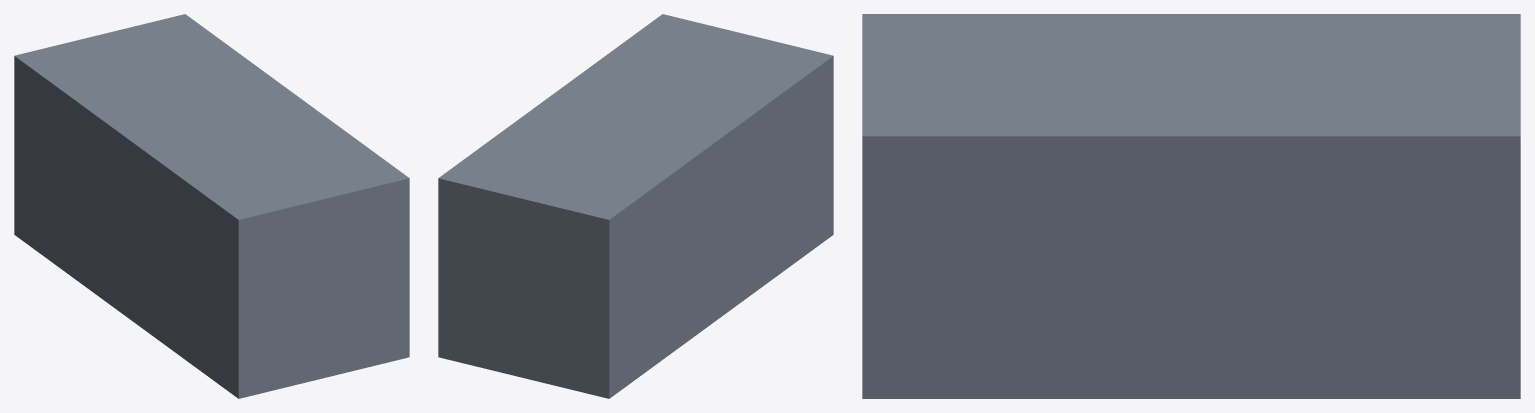
File: filing_cabinet.glb
3 views of the same model, side by side, from view 1: azimuth 30°, elevation 25°; view 2: azimuth 150°, elevation 25°; view 3: azimuth 270°, elevation 25° (orthographic). The views are drawn at different scales.
Parts seen in each view (by area): view 1: cabinet_0; view 2: cabinet_0; view 3: cabinet_0.
Part boxes in pixels (left/top/right/bottom): cabinet_0: left=14, top=14, right=409, bottom=398; cabinet_0: left=438, top=14, right=833, bottom=398; cabinet_0: left=862, top=14, right=1520, bottom=398.
Bounding box in the file's own units: 0.55 × 0.571 × 1.25.
